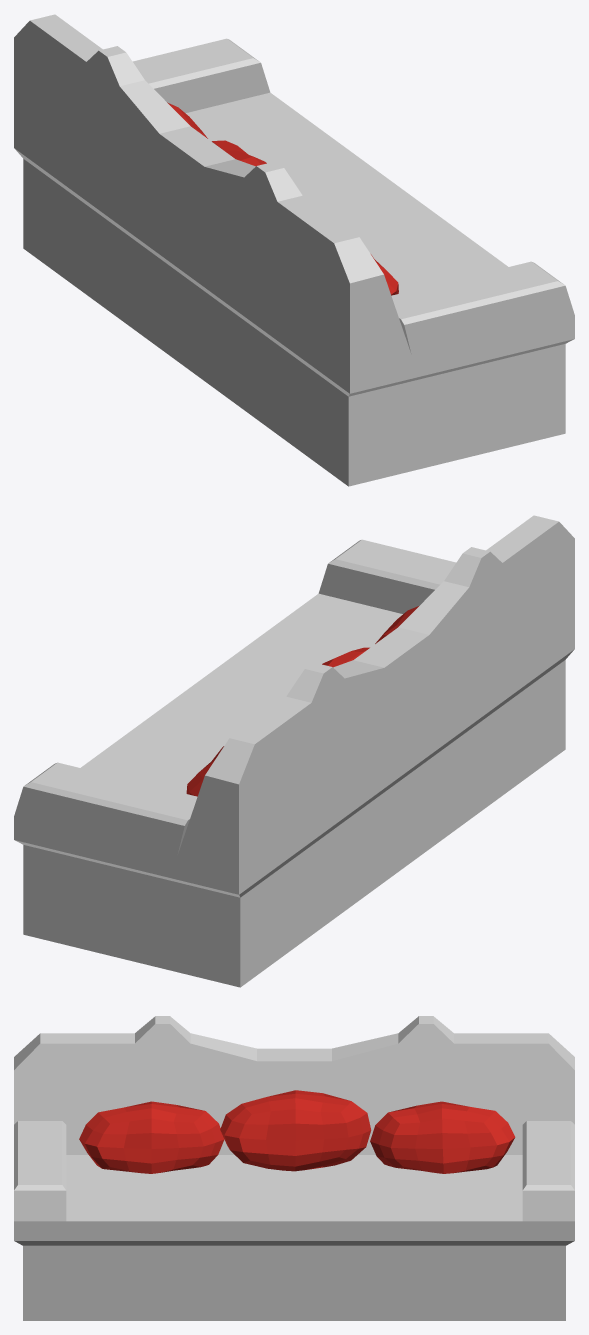
Rendered from couch.fbx.
3 views of the same model, one above another, from view 1: azimuth 30°, elevation 25°; view 2: azimuth 150°, elevation 25°; view 3: azimuth 270°, elevation 25° (orthographic). The views are drawn at different scales.
Parts seen in each view (by area): view 1: couch; view 2: couch; view 3: couch, pillow_2, pillow_1, pillow_3.
Boxes of the visible parts, x1,y1,x2,y2 form: couch: [14, 14, 574, 486]; couch: [14, 515, 574, 987]; couch: [14, 1016, 574, 1320]; pillow_2: [220, 1090, 371, 1171]; pillow_1: [79, 1101, 224, 1173]; pillow_3: [370, 1101, 515, 1173].
Bounding box in the file's own units: 88.13 × 96.16 × 228.
